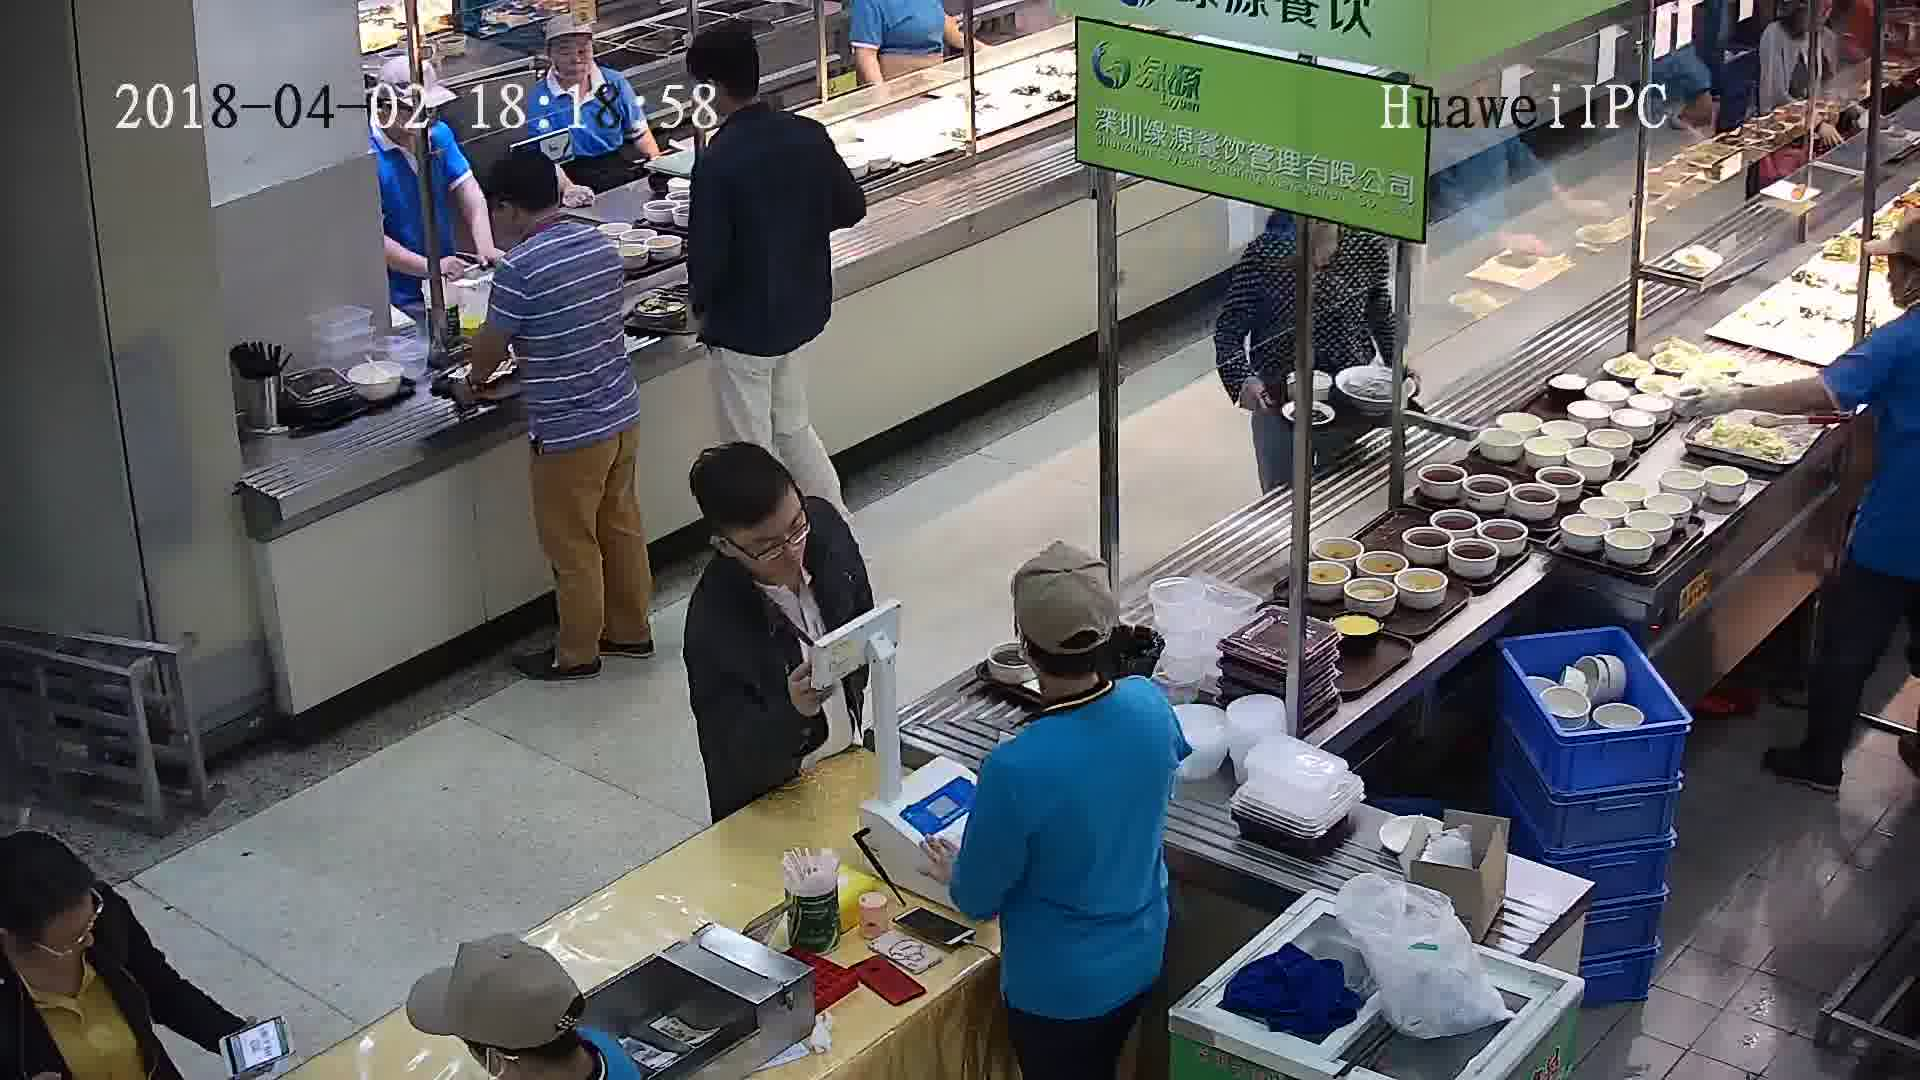face: (725, 498, 813, 586), (33, 903, 92, 962), (548, 33, 597, 82)
person: (978, 548, 1181, 814), (674, 436, 866, 628), (409, 929, 634, 1080), (1, 829, 149, 1043), (682, 25, 836, 180), (481, 149, 627, 299), (1854, 205, 1918, 395), (526, 22, 634, 110), (368, 77, 457, 180)
